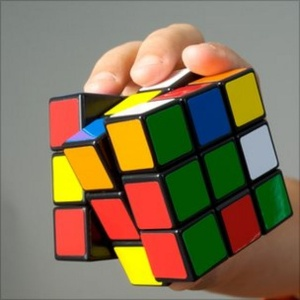cube: (49, 67, 293, 292)
